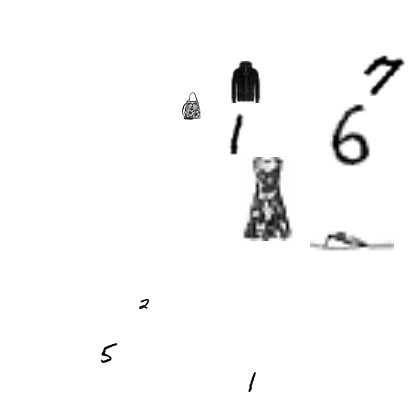1: (207, 106, 263, 162), (237, 368, 265, 396)
2: (137, 297, 151, 311)
5: (93, 339, 121, 367)
6: (306, 96, 390, 180)
7: (354, 42, 410, 98)
Bag: (177, 92, 205, 120)
Coat: (224, 61, 266, 103)
Dress: (226, 157, 310, 241)
Sandal: (310, 199, 394, 283)
